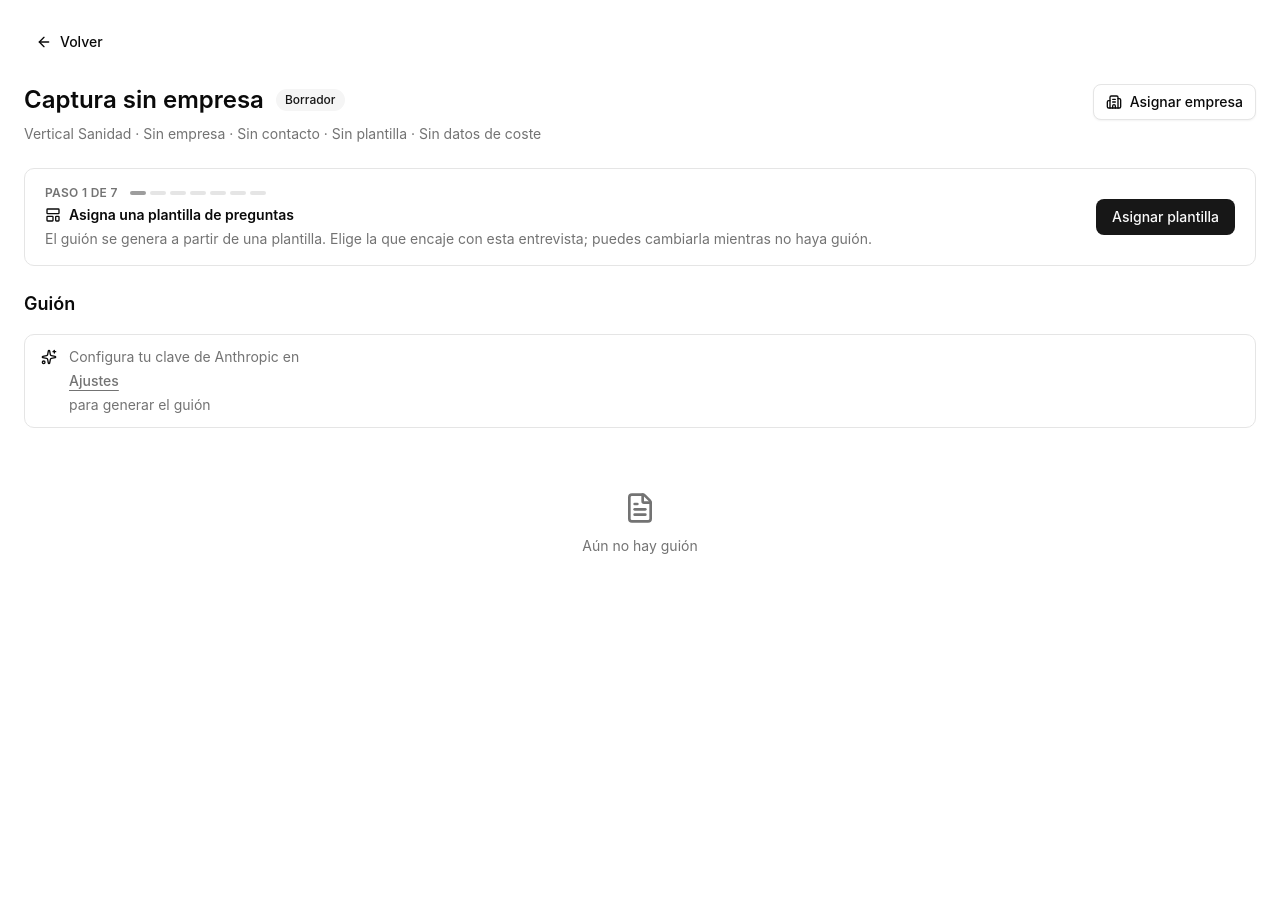
Test: CaptureDetailPage onboarding › opens EditCaptureDialog from "Asignar plantilla" and moves to step 2 after saving a template
Click the button with test id "onboarding-step-action": (1166, 217) [1096,199,1235,235]
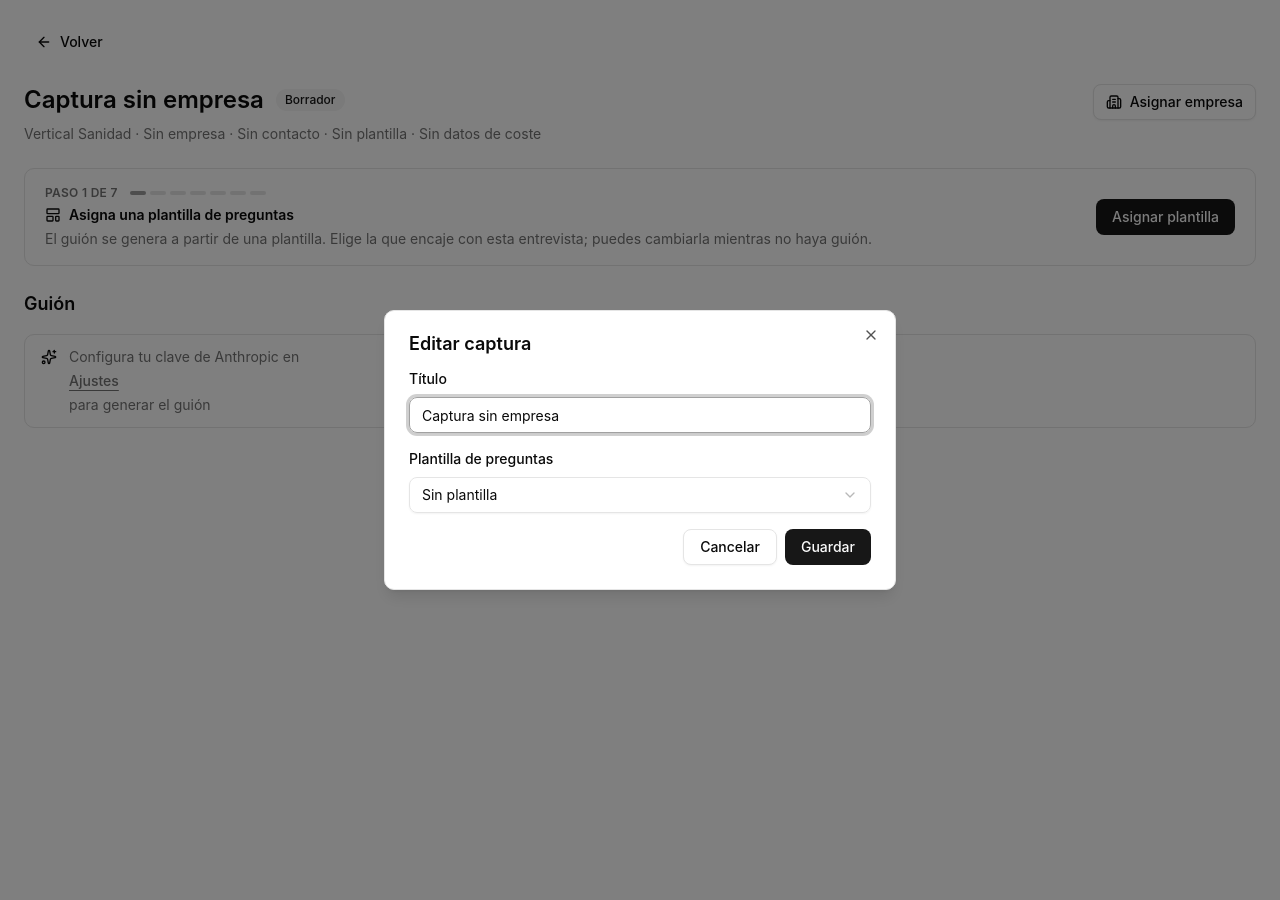
Click the dropdown named "Plantilla de preguntas": (460, 494) [409,477,871,513]
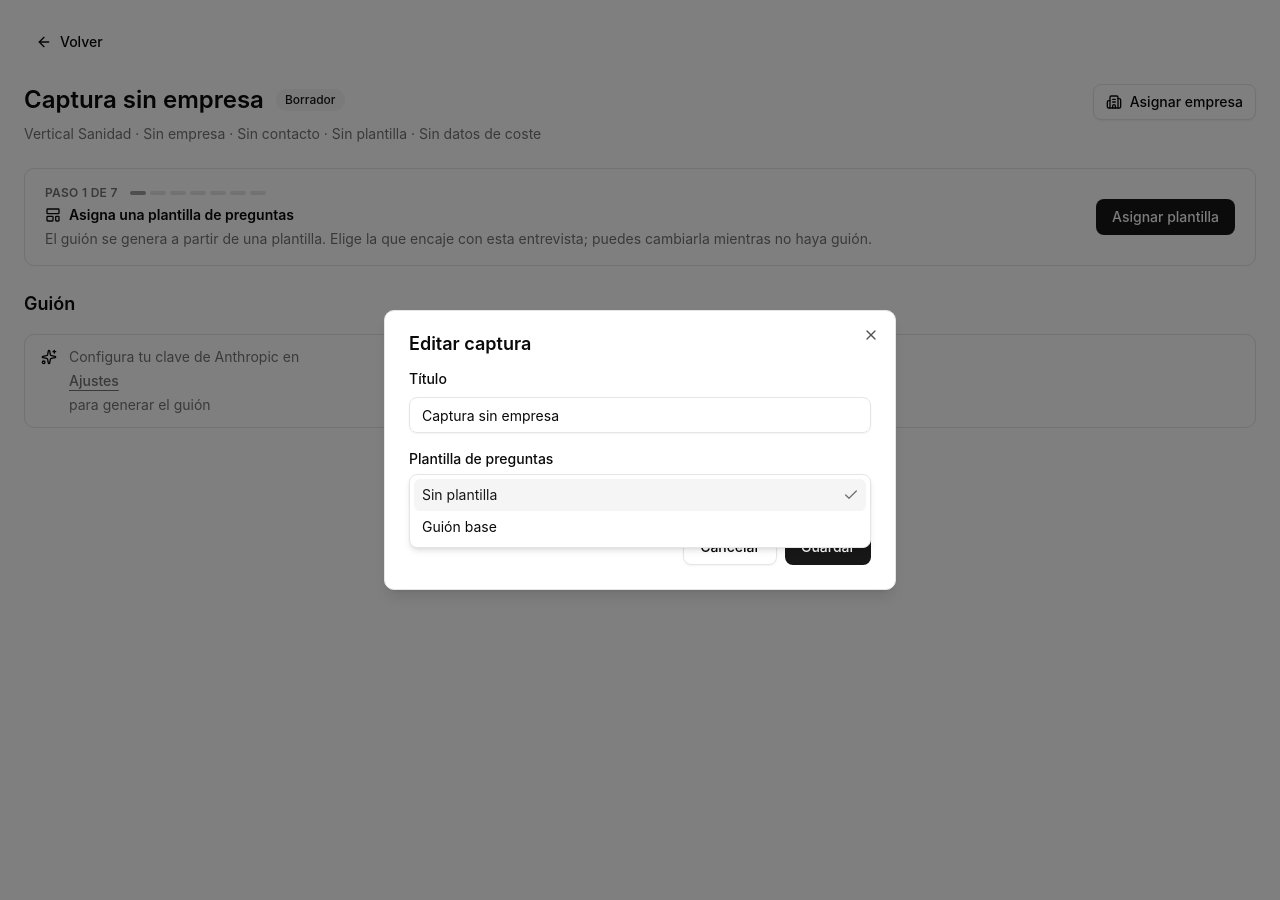
Click the option "Guión base": (459, 526) [422,518,497,535]
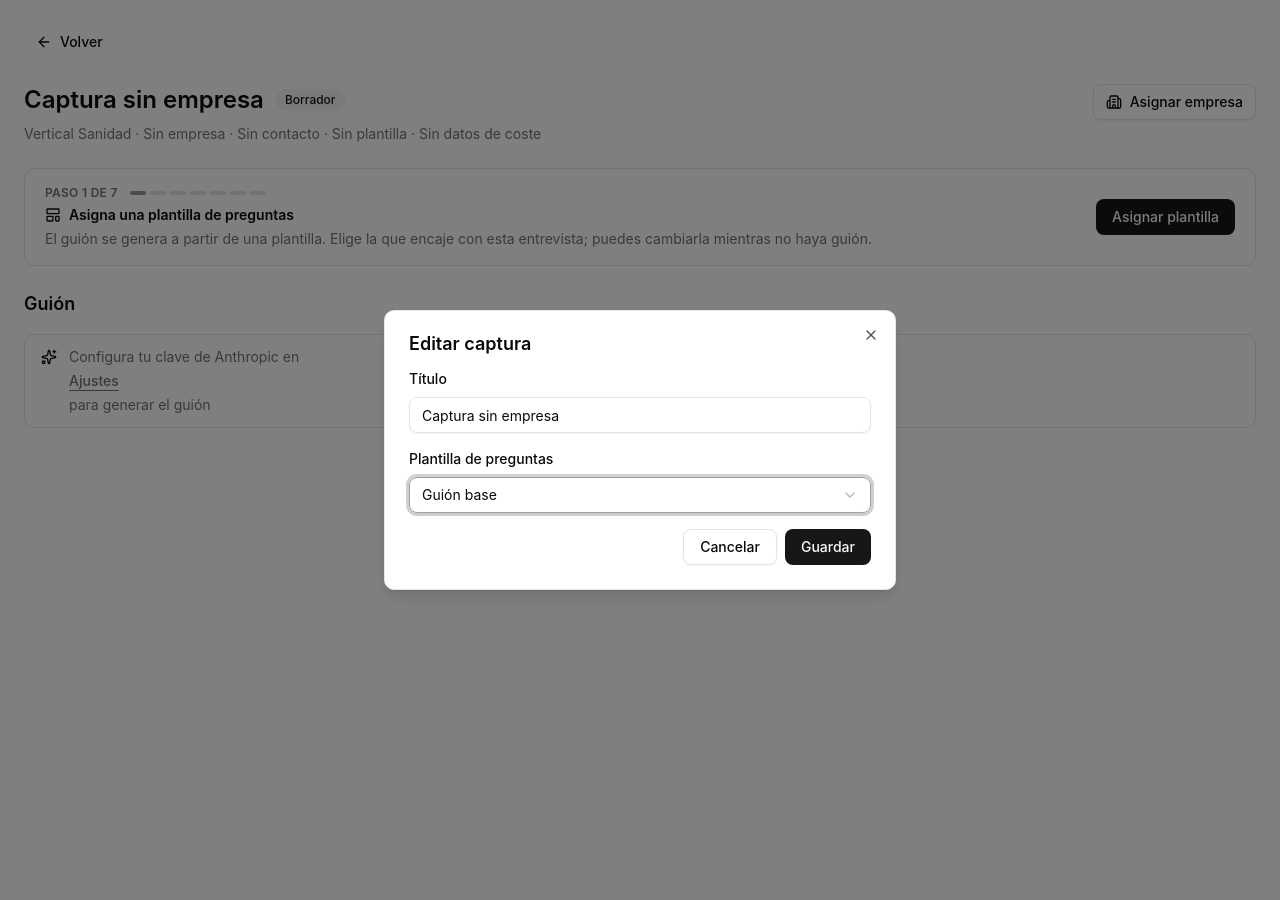
Click the button "Guardar": (828, 547) [785,529,871,565]
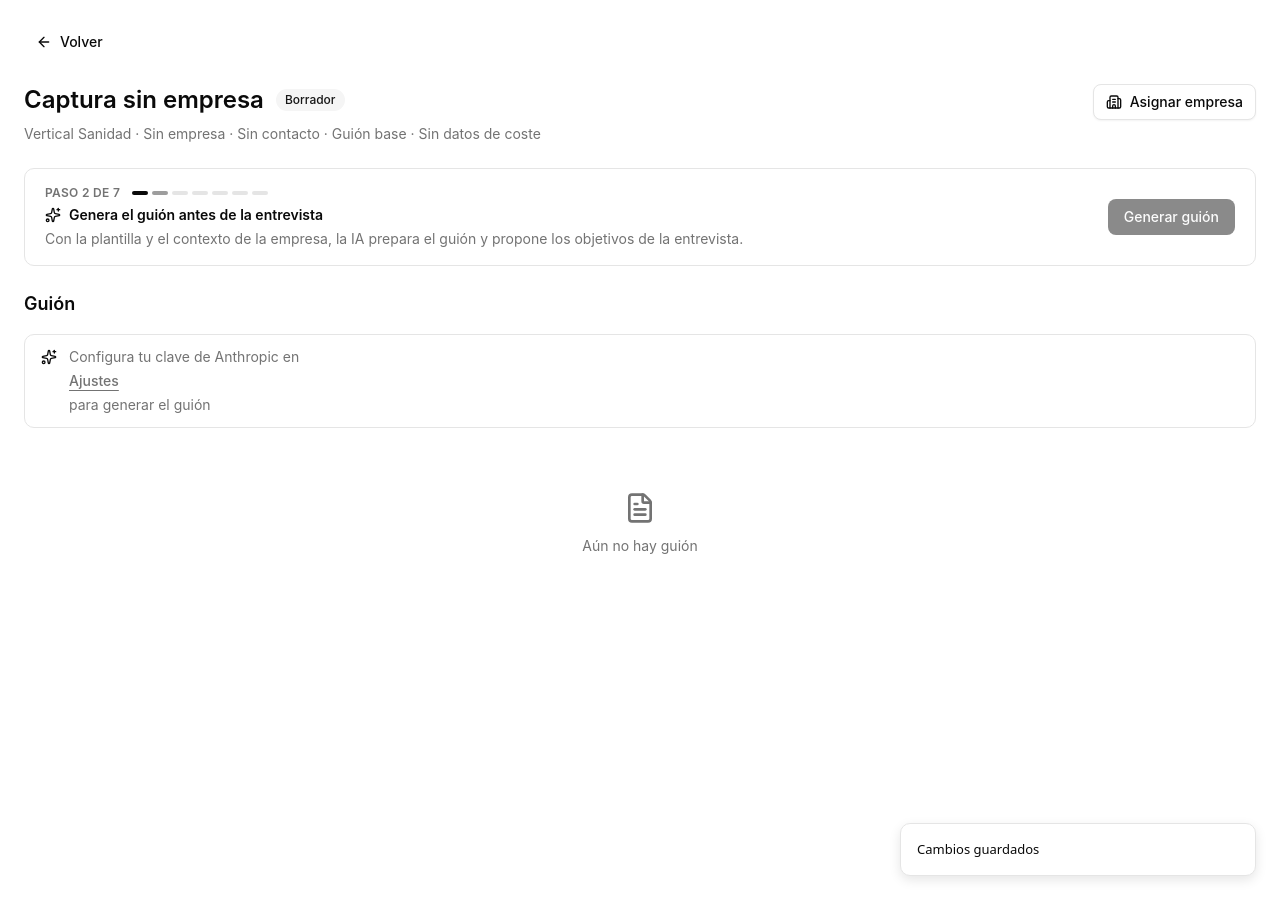
Now the dialog is gone
